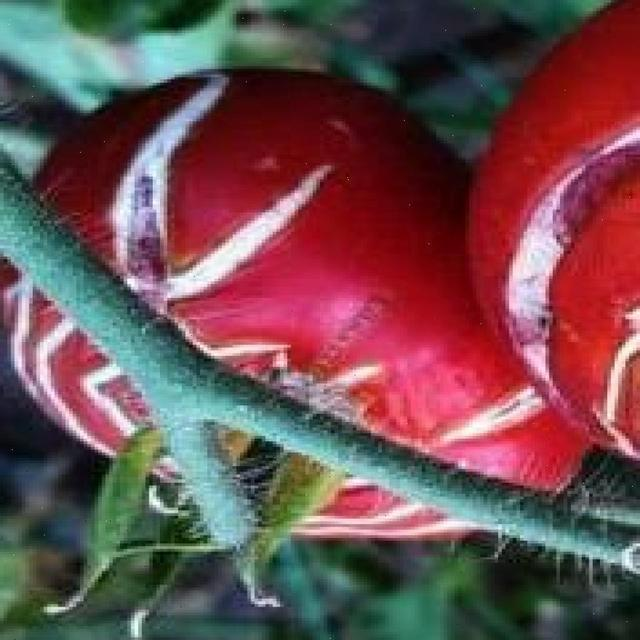Cracking Fruit: (73, 43, 379, 342)
